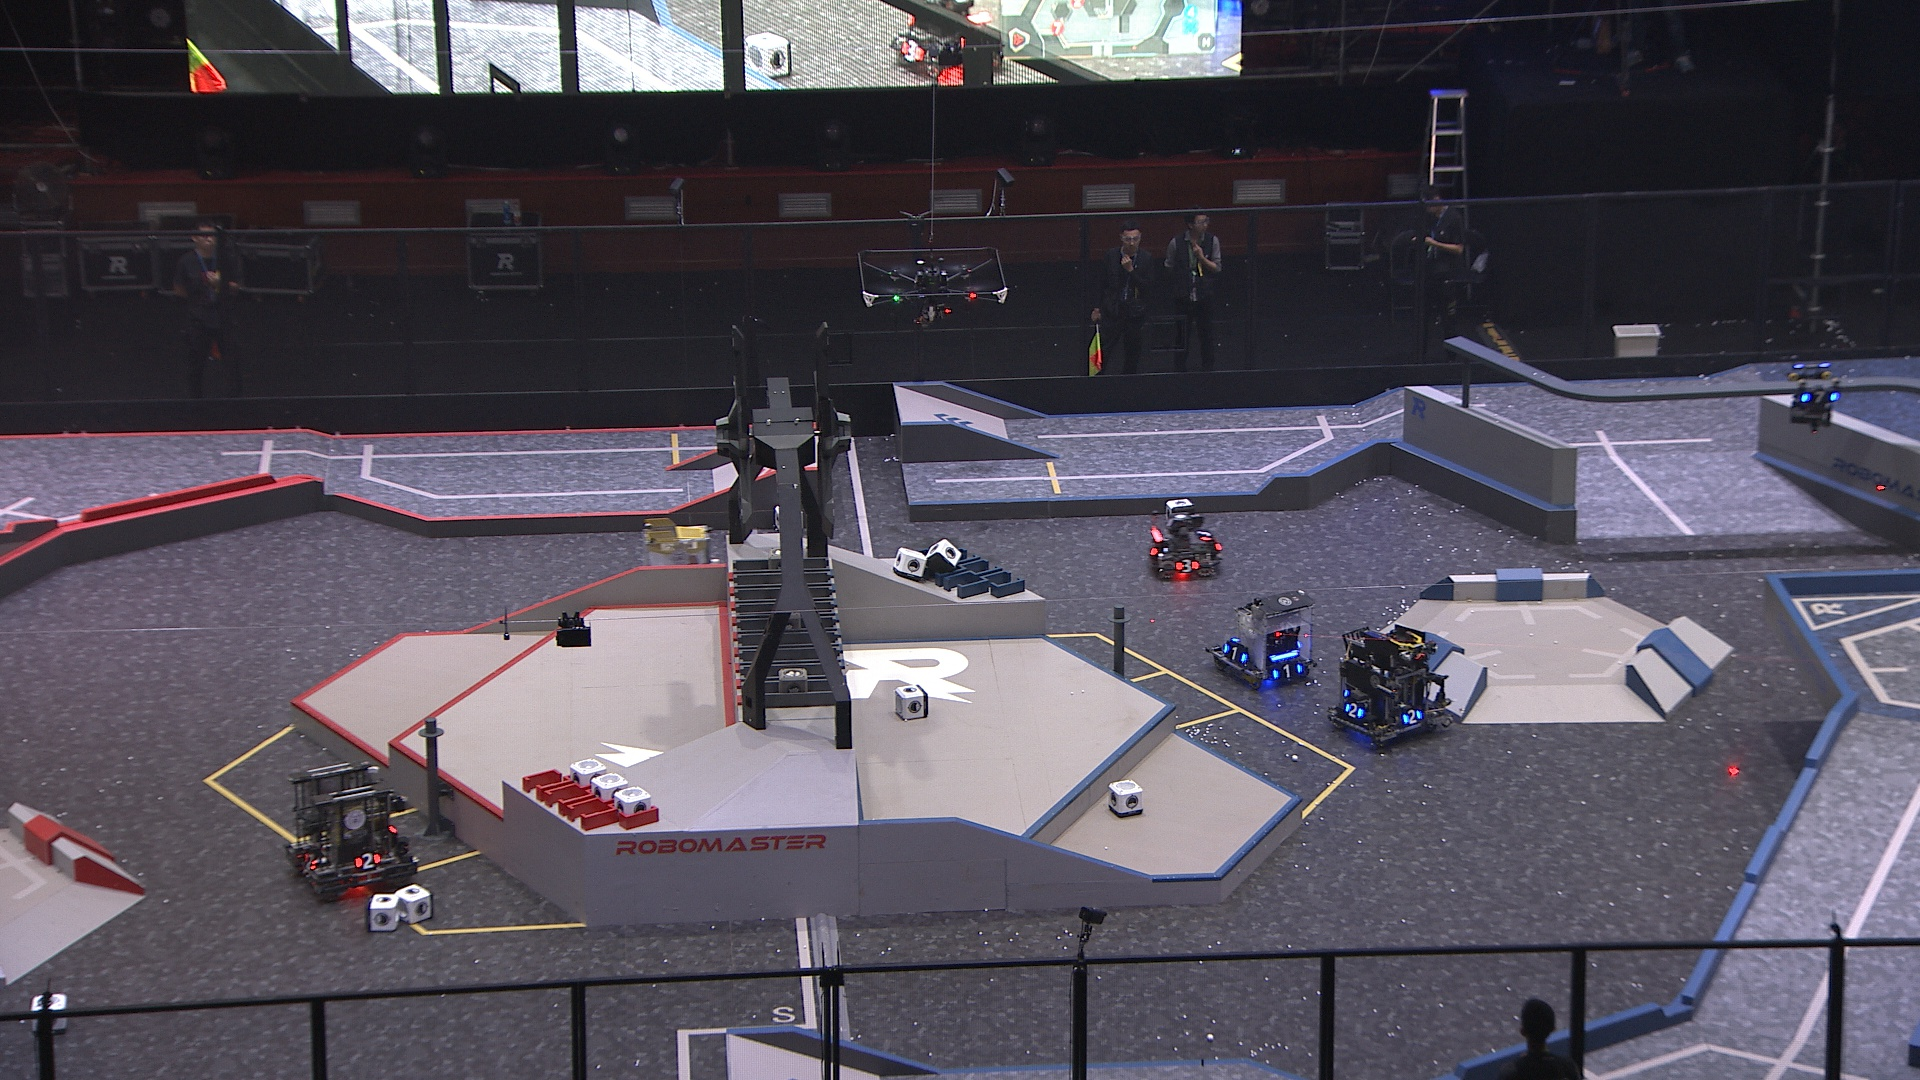armor: (1799, 386, 1840, 406), (1218, 644, 1249, 665), (1273, 662, 1304, 679), (353, 851, 380, 869), (1176, 556, 1201, 575), (1400, 708, 1423, 725), (1342, 700, 1365, 717), (305, 853, 318, 873), (1196, 527, 1211, 543)
car: (280, 760, 419, 902), (1332, 626, 1452, 746), (1207, 583, 1319, 687), (641, 516, 728, 605), (1147, 498, 1228, 583)
watcher: (1787, 360, 1844, 433)
